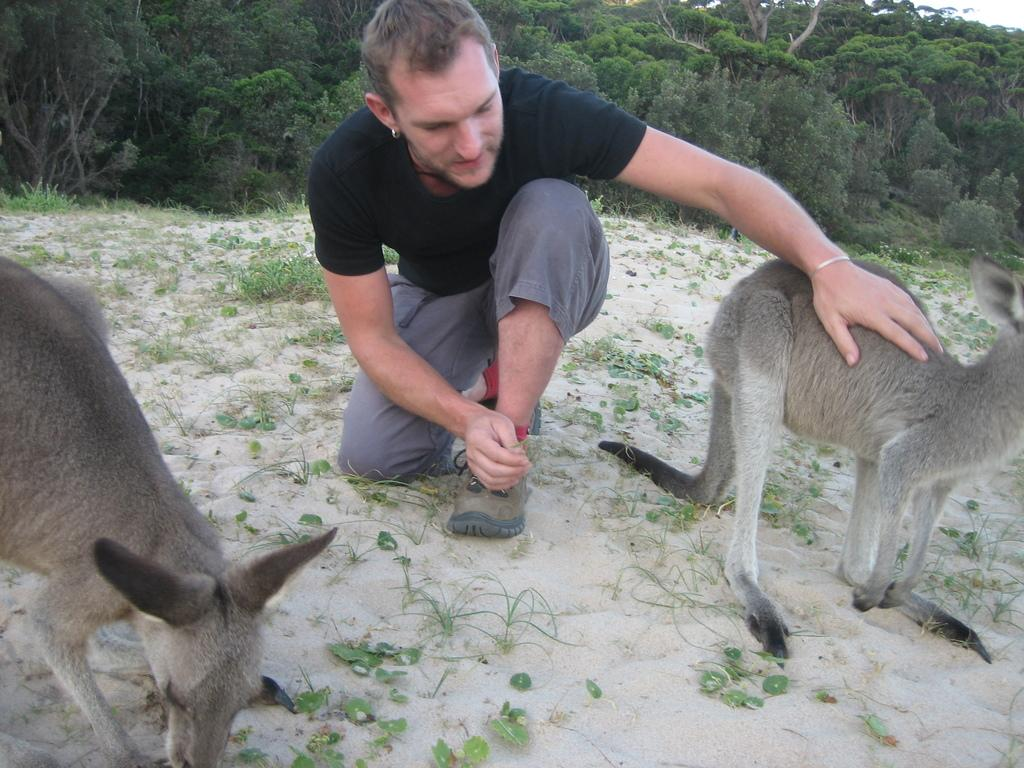kangaroo: (0, 245, 339, 766), (598, 250, 1022, 662)
